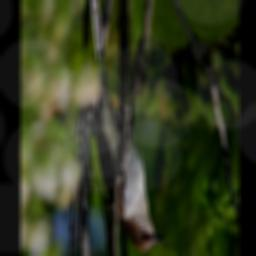Cuckoo: (90, 0, 168, 255)
